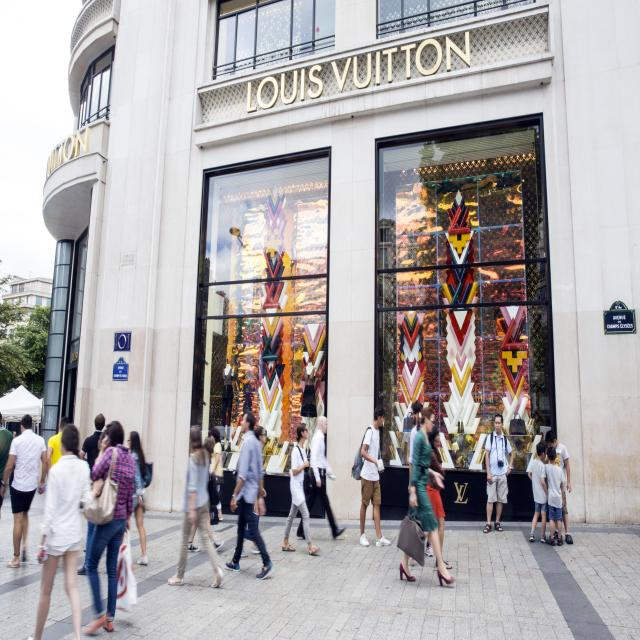body: (25, 421, 105, 640), (80, 419, 138, 638), (396, 405, 457, 588), (166, 423, 225, 590), (224, 411, 274, 579), (0, 412, 48, 570), (295, 414, 348, 544), (281, 422, 321, 556), (187, 436, 226, 553), (359, 406, 391, 548), (234, 425, 268, 558), (426, 423, 454, 571), (76, 429, 104, 576), (482, 412, 515, 534), (78, 413, 106, 543), (544, 430, 574, 546), (126, 430, 149, 566), (46, 414, 82, 482), (292, 356, 324, 426), (544, 446, 566, 546), (0, 436, 16, 569), (528, 442, 548, 544), (214, 357, 240, 432), (208, 428, 224, 523), (408, 400, 423, 494), (9, 431, 17, 496), (83, 544, 88, 554)
